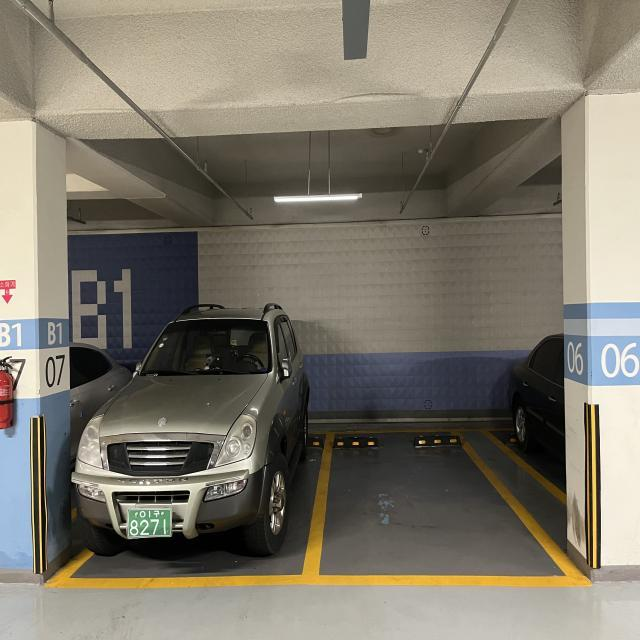empty: (306, 426, 600, 585)
occupied: (62, 294, 310, 591)
